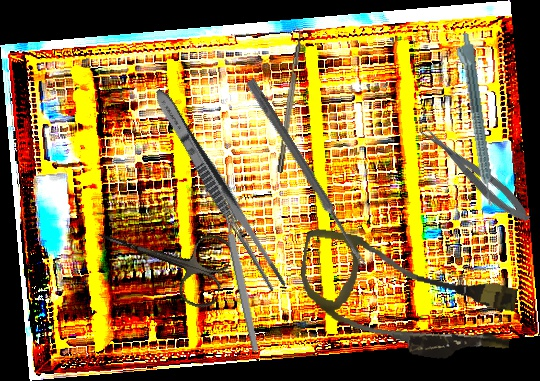Cannula: (290, 226, 523, 370)
Chopper: (269, 24, 306, 174)
Dressing Forceps: (147, 84, 291, 295)
Handpiece: (452, 31, 497, 209)
Iris Scissors: (86, 197, 237, 314)
Micro Scissor: (417, 120, 536, 229)
Surgical Spoon: (244, 78, 370, 269), (215, 183, 261, 353)
